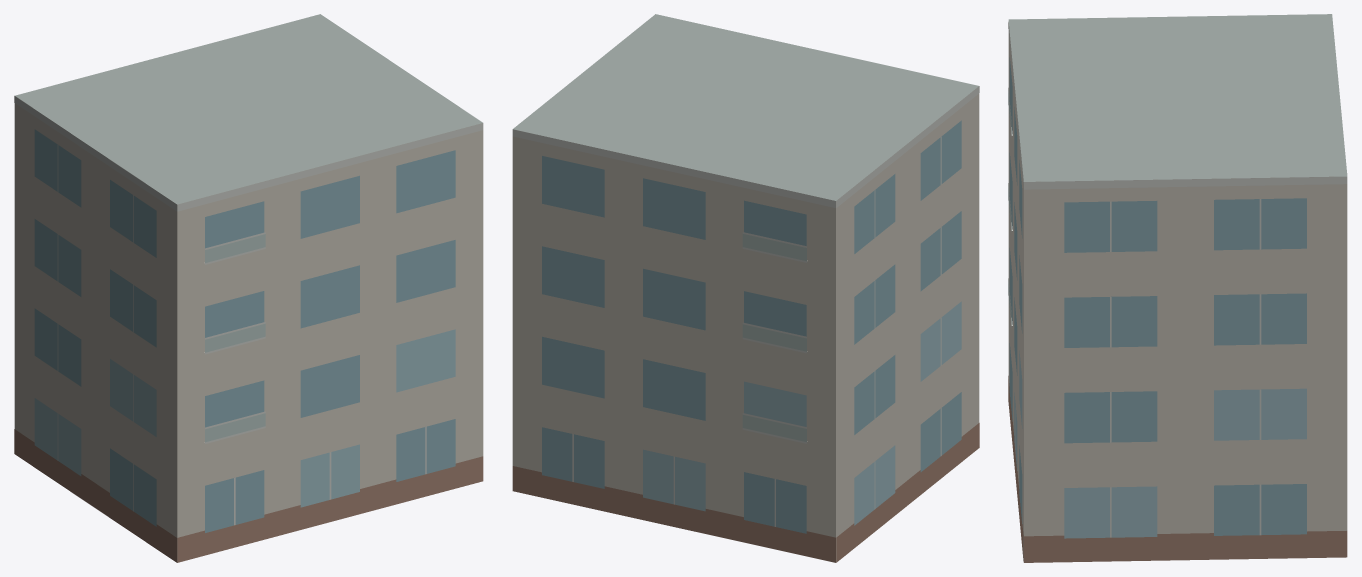
Rendered from residential-acd24621-c2bc-41d8-9b00-cc15d44d8af1.glb.
The picture shows the model from 3 angles, left to right: view 1: azimuth 30°, elevation 25°; view 2: azimuth 150°, elevation 25°; view 3: azimuth 270°, elevation 25°; orthographic projection. The views are drawn at different scales.
Parts seen in each view (by area): view 1: residential-acd24621-c2bc-41d8-9b00-cc15d44d8af1.tmp; view 2: residential-acd24621-c2bc-41d8-9b00-cc15d44d8af1.tmp; view 3: residential-acd24621-c2bc-41d8-9b00-cc15d44d8af1.tmp.
Part boxes in pixels (x1,y1,x2,y2): residential-acd24621-c2bc-41d8-9b00-cc15d44d8af1.tmp: [14, 14, 483, 562]; residential-acd24621-c2bc-41d8-9b00-cc15d44d8af1.tmp: [512, 14, 979, 562]; residential-acd24621-c2bc-41d8-9b00-cc15d44d8af1.tmp: [1008, 14, 1347, 562].
Size of the model in its own units: 11.55 by 12.2 by 9.85.
